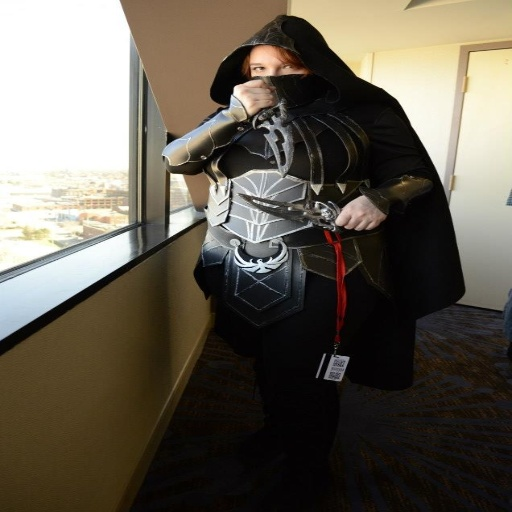hand: (230, 67, 275, 115), (329, 195, 386, 232)
